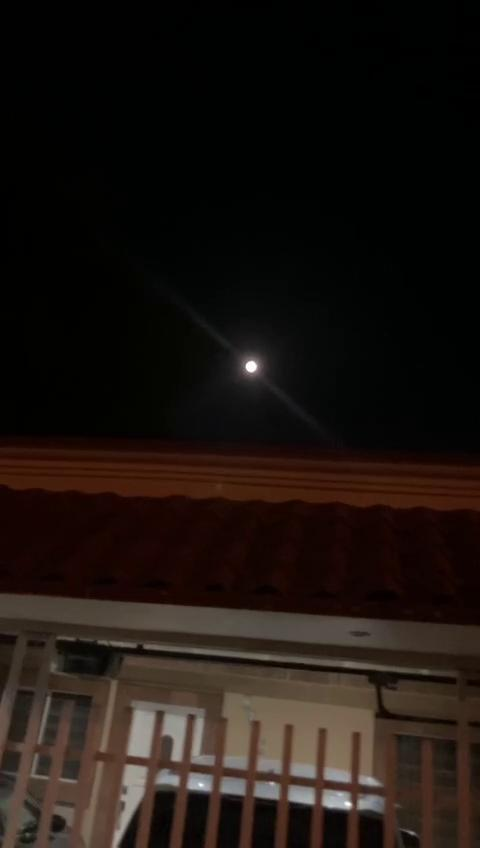moon: (226, 341, 284, 398)
